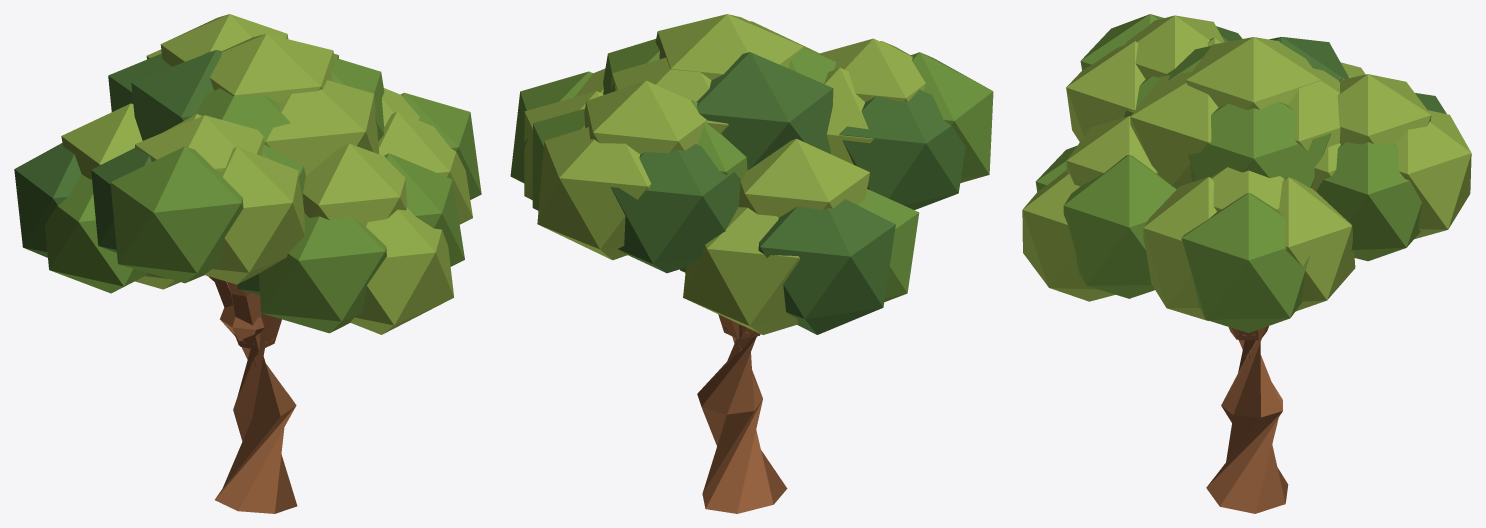
File: BroadleafTree.glb
3 renders of one model, left to right at view 1: azimuth 30°, elevation 25°; view 2: azimuth 150°, elevation 25°; view 3: azimuth 270°, elevation 25°, orthographic. The views are drawn at different scales.
Parts seen in each view (by area): view 1: Angular foliage crown.018, Angular foliage crown.023, Bent tree trunk, Angular foliage crown.019, Angular foliage crown.024, Angular foliage crown.029, Crown top.004, Crown top.005, Angular foliage crown.013, Angular foliage crown.027, Angular foliage crown.012, Angular foliage crown.004 (+13 smaller); view 2: Angular foliage crown.012, Angular foliage crown.007, Angular foliage crown.017, Angular foliage crown.006, Angular foliage crown.027, Bent tree trunk, Angular foliage crown.011, Crown top.002, Crown top.001, Crown top.005, Angular foliage crown.018, Crown top.003 (+9 smaller); view 3: Angular foliage crown, Angular foliage crown.020, Bent tree trunk, Angular foliage crown.005, Angular foliage crown.025, Crown top.005, Angular foliage crown.006, Angular foliage crown.029, Angular foliage crown.001, Angular foliage crown.004, Angular foliage crown.024, Crown top.001 (+10 smaller).
Boxes of the visible parts, bbox=[...] form: Angular foliage crown.018: bbox=[110, 146, 243, 283]; Angular foliage crown.023: bbox=[258, 213, 386, 333]; Bent tree trunk: bbox=[215, 305, 297, 513]; Angular foliage crown.019: bbox=[204, 146, 304, 284]; Angular foliage crown.024: bbox=[350, 207, 454, 334]; Angular foliage crown.029: bbox=[265, 80, 379, 175]; Crown top.004: bbox=[303, 143, 407, 224]; Crown top.005: bbox=[210, 34, 335, 102]; Angular foliage crown.013: bbox=[45, 174, 146, 293]; Angular foliage crown.027: bbox=[131, 50, 222, 140]; Angular foliage crown.012: bbox=[14, 143, 81, 257]; Angular foliage crown.004: bbox=[378, 111, 472, 224]; Angular foliage crown.012: bbox=[758, 199, 895, 334]; Angular foliage crown.007: bbox=[610, 144, 741, 273]; Angular foliage crown.017: bbox=[839, 89, 965, 209]; Angular foliage crown.006: bbox=[537, 127, 651, 260]; Angular foliage crown.027: bbox=[696, 52, 833, 169]; Bent tree trunk: bbox=[697, 324, 787, 513]; Angular foliage crown.011: bbox=[683, 207, 799, 334]; Crown top.002: bbox=[738, 138, 869, 217]; Crown top.001: bbox=[584, 80, 706, 154]; Crown top.005: bbox=[655, 14, 803, 80]; Angular foliage crown.018: bbox=[910, 52, 993, 182]; Crown top.003: bbox=[819, 38, 925, 102]; Angular foliage crown: bbox=[1181, 193, 1310, 332]; Angular foliage crown.020: bbox=[1063, 154, 1176, 298]; Bent tree trunk: bbox=[1206, 338, 1288, 513]; Angular foliage crown.005: bbox=[1316, 142, 1421, 261]; Angular foliage crown.025: bbox=[1188, 101, 1330, 188]; Crown top.005: bbox=[1186, 37, 1320, 109]; Angular foliage crown.006: bbox=[1395, 110, 1471, 238]; Angular foliage crown.029: bbox=[1130, 72, 1218, 188]; Angular foliage crown.001: bbox=[1278, 177, 1355, 311]; Angular foliage crown.004: bbox=[1143, 177, 1216, 320]; Angular foliage crown.024: bbox=[1022, 170, 1115, 301]; Crown top.001: bbox=[1337, 74, 1431, 144].
Bounding box in the file's own units: 9.23 × 10.23 × 8.95.
